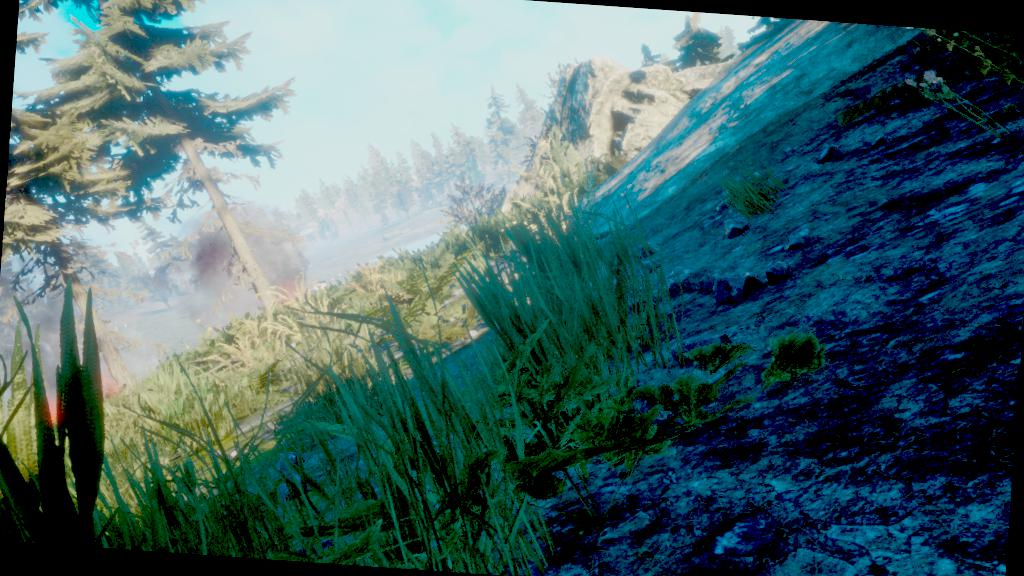smoke: (160, 204, 320, 319), (12, 274, 132, 374)
